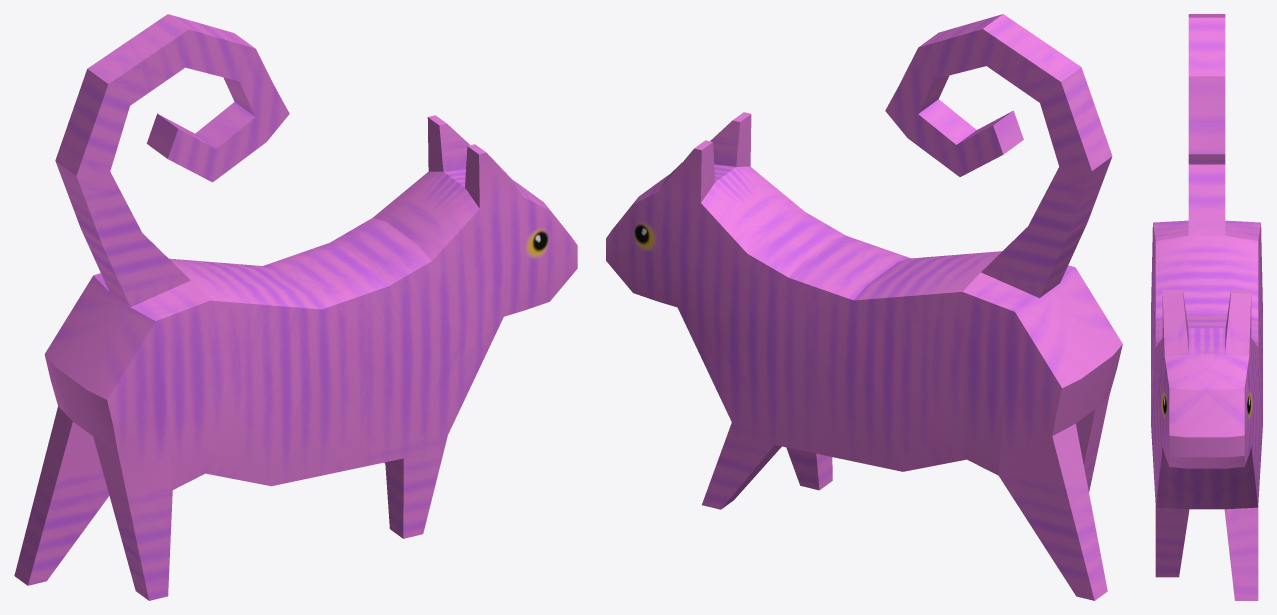
Rendered from cat.fbx.
The picture shows the model from 3 angles, left to right: view 1: azimuth 30°, elevation 25°; view 2: azimuth 150°, elevation 25°; view 3: azimuth 270°, elevation 25°; orthographic projection. The views are drawn at different scales.
Parts seen in each view (by area): view 1: cat_geo; view 2: cat_geo; view 3: cat_geo.
Boxes of the visible parts, x1,y1,x2,y2 form: cat_geo: [14, 14, 577, 600]; cat_geo: [606, 14, 1122, 600]; cat_geo: [1151, 14, 1262, 600].
Bounding box in the file's own units: 6.62 × 6.66 × 1.44.
